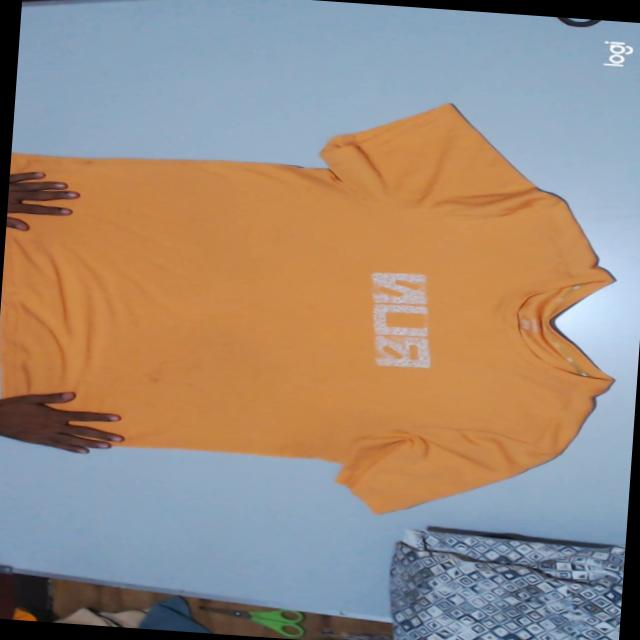new-garment: (0, 103, 612, 511)
